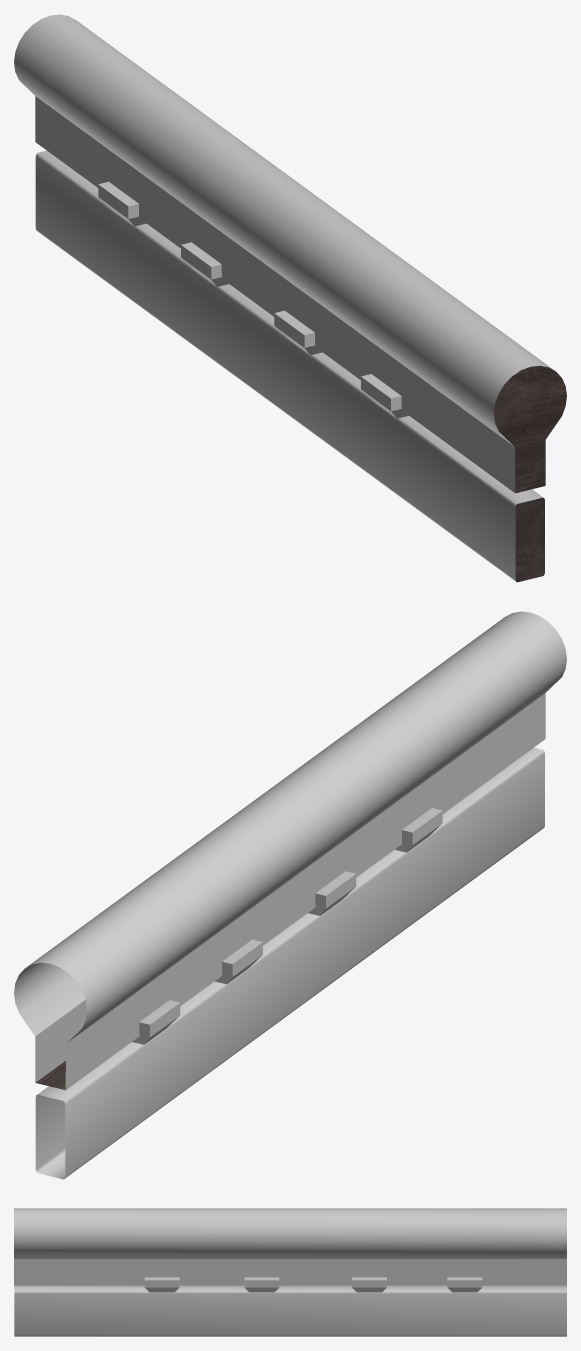
The model's file is SM_Roof_Foundation_32.FBX.
3 views of the same model, one above another, from view 1: azimuth 30°, elevation 25°; view 2: azimuth 150°, elevation 25°; view 3: azimuth 270°, elevation 25° (orthographic). The views are drawn at different scales.
Parts seen in each view (by area): view 1: SM_Roof_Foundation_32; view 2: SM_Roof_Foundation_32; view 3: SM_Roof_Foundation_32.
Part boxes in pixels (x1,y1,x2,y2): SM_Roof_Foundation_32: [14, 14, 566, 582]; SM_Roof_Foundation_32: [14, 611, 566, 1179]; SM_Roof_Foundation_32: [14, 1208, 566, 1336].
Size of the model in its own units: 49.65 by 138 by 564.
